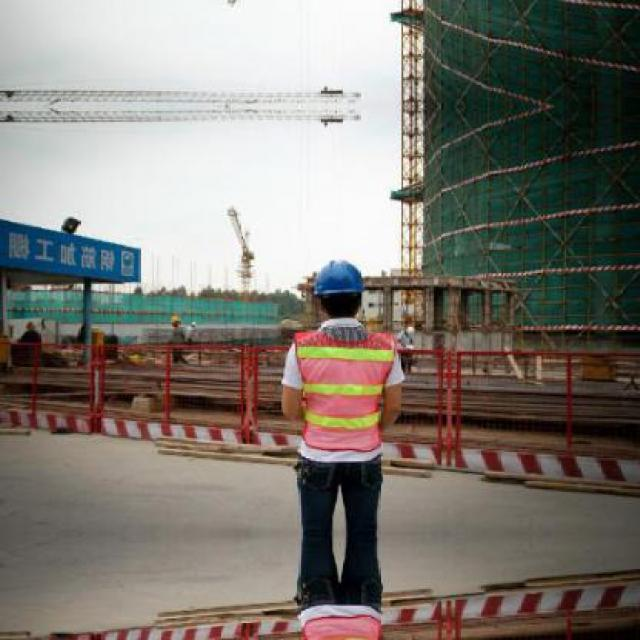Reflective-Jacket: (277, 324, 412, 472)
Safety-Helmet: (297, 250, 377, 307)
